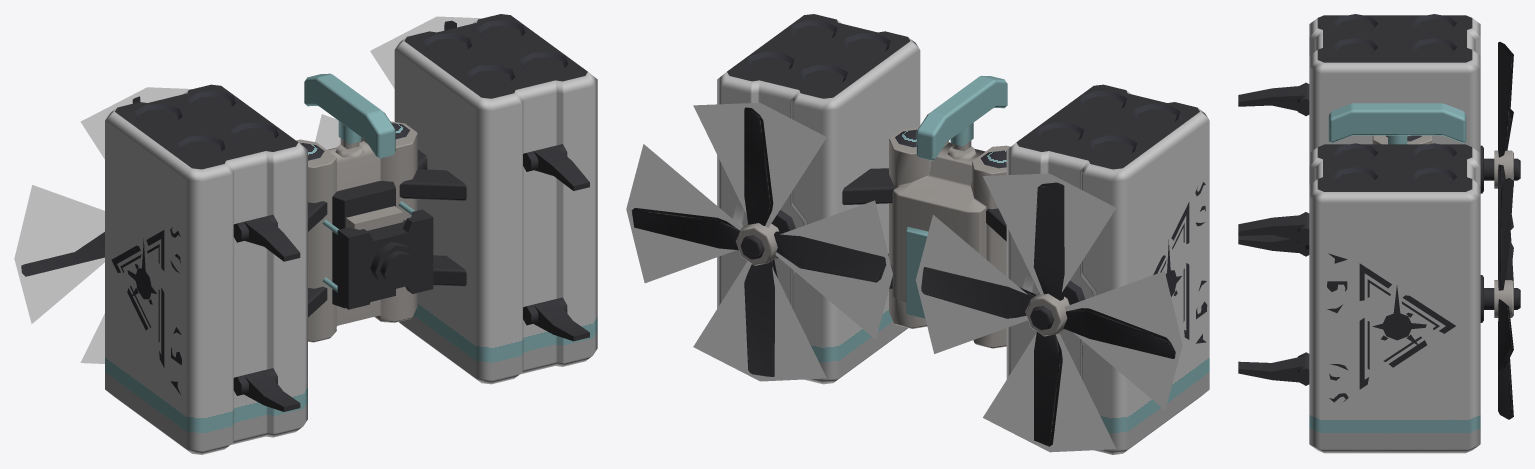
File: drone.fbx
3 views of the same model, side by side, from view 1: azimuth 30°, elevation 25°; view 2: azimuth 150°, elevation 25°; view 3: azimuth 270°, elevation 25° (orthographic). The views are drawn at different scales.
Parts seen in each view (by area): view 1: EN0002_EX01_Outline; view 2: EN0002_EX01_Outline; view 3: EN0002_EX01_Outline.
Boxes of the visible parts, left/top/right/bottom form: EN0002_EX01_Outline: left=14, top=14, right=597, bottom=454; EN0002_EX01_Outline: left=626, top=14, right=1209, bottom=454; EN0002_EX01_Outline: left=1238, top=14, right=1520, bottom=453.
Size of the model in its own units: 64.42 by 32.45 by 30.94.
